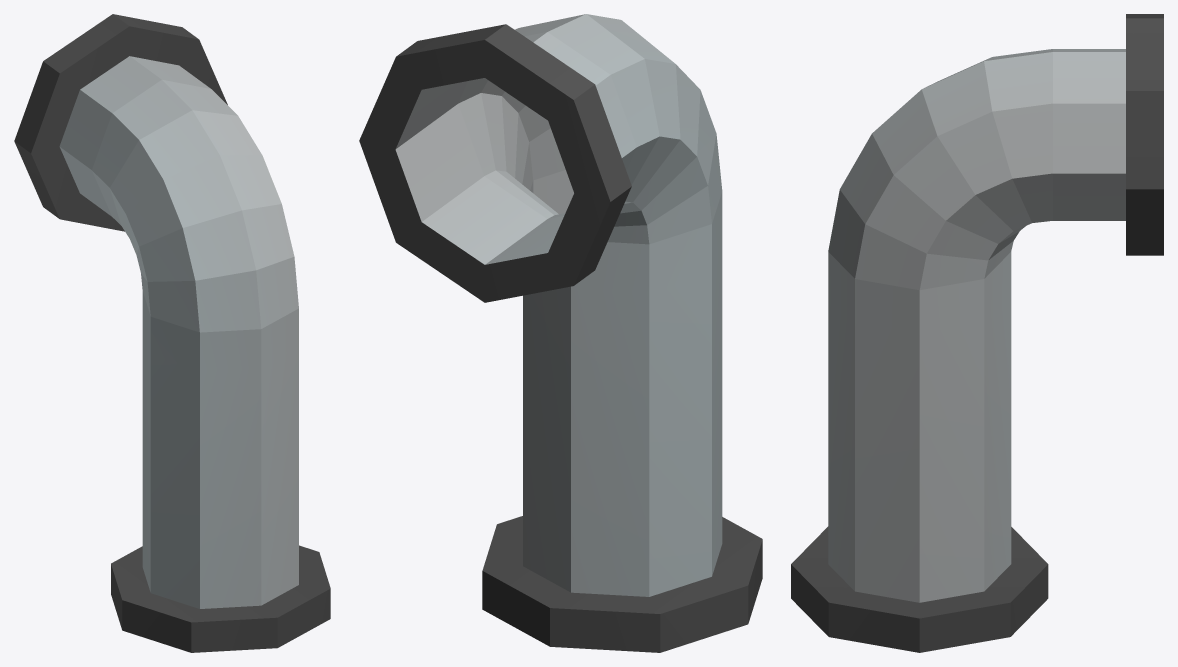
Rendered from Pipe_big_short_1.fbx.
The picture shows the model from 3 angles, left to right: view 1: azimuth 30°, elevation 25°; view 2: azimuth 150°, elevation 25°; view 3: azimuth 270°, elevation 25°; orthographic projection. The views are drawn at different scales.
Parts seen in each view (by area): view 1: Pipe_big_short_1; view 2: Pipe_big_short_1; view 3: Pipe_big_short_1.
Part boxes in pixels (<box>): Pipe_big_short_1: <box>14,14,330,652</box>; Pipe_big_short_1: <box>359,14,762,652</box>; Pipe_big_short_1: <box>791,14,1163,652</box>.
Size of the model in its own units: 54.15 by 135 by 78.49.
